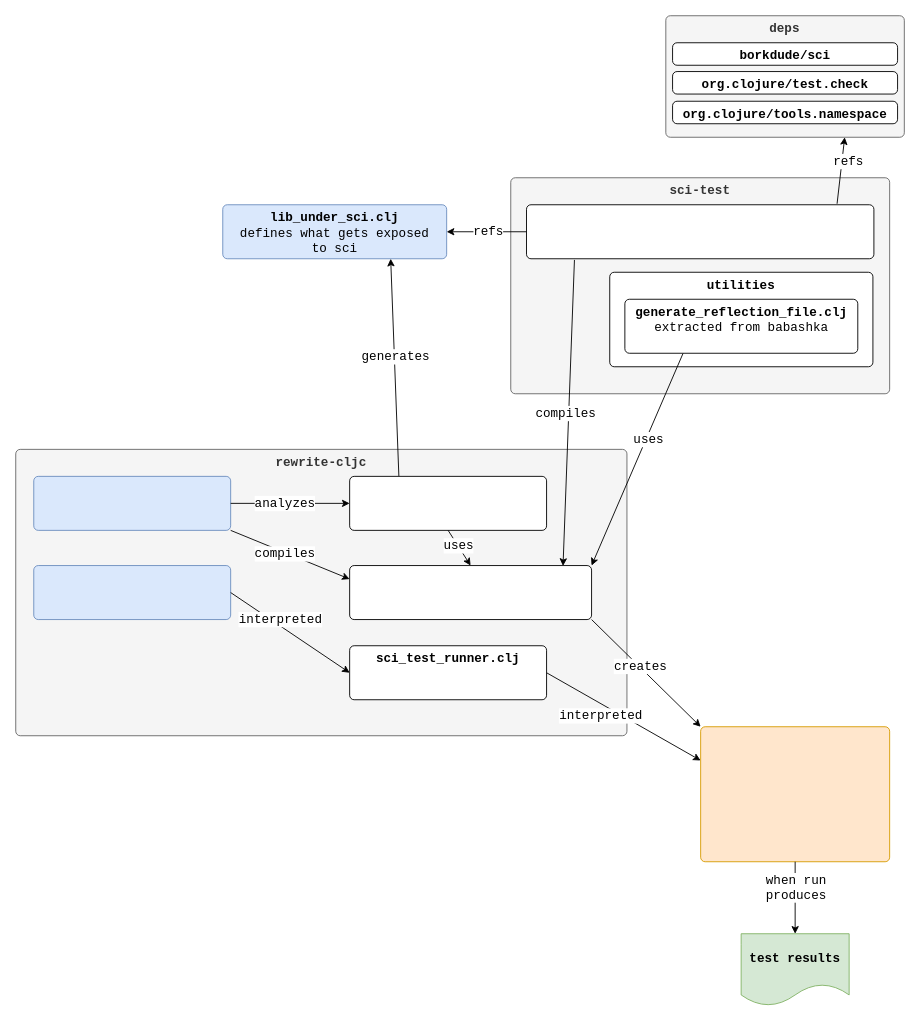
This 921x1022 diagram has some shape labels left out. The centre of each missing label's shape, as x and y in pixels:
sci-test-rewrite-cljc executable contains natively compiled src & deps: the point at 795,794
sci_test_gen_native_image.clj: the point at 470,592
sci_test_gen_pubs.clj: the point at 448,502
src: the point at 132,502
src copy & paste what was needed from babashka and added additional test support: the point at 700,231
test: the point at 132,592
